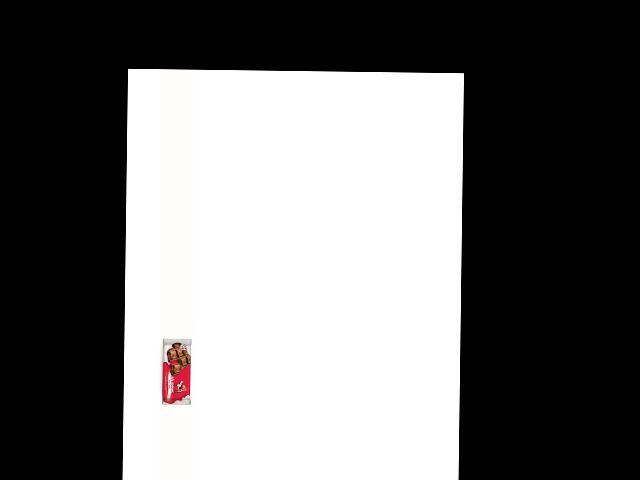chocolate: (146, 337, 187, 415)
